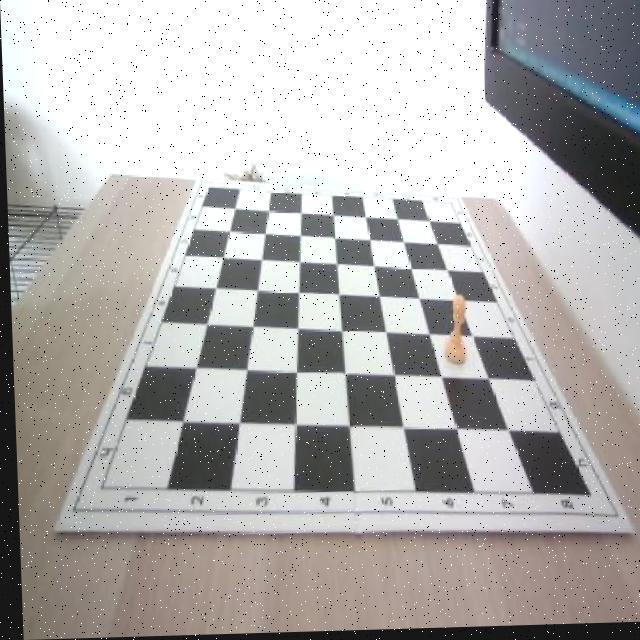white-knight: (439, 297, 465, 367)
